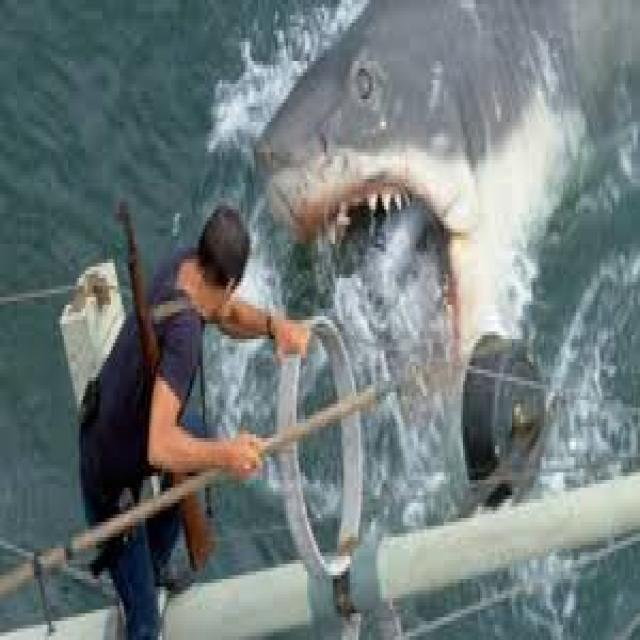shark: (256, 0, 631, 358)
